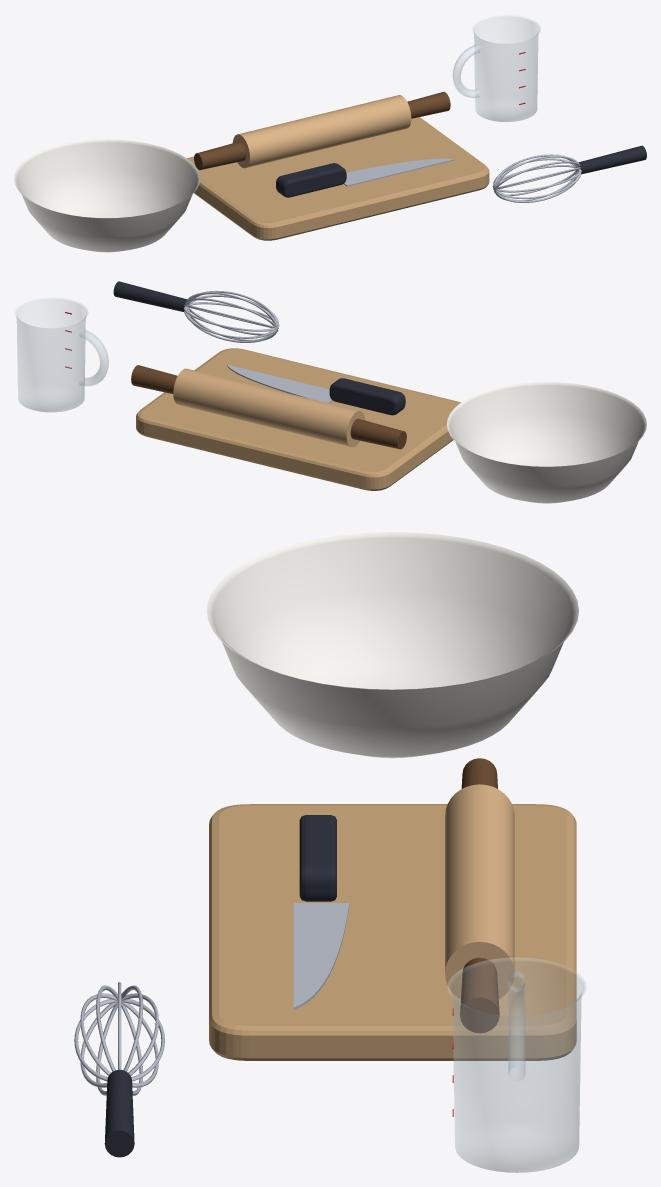
The model's file is sch-024.glb.
3 views of the same model, one above another, from view 1: azimuth 30°, elevation 25°; view 2: azimuth 150°, elevation 25°; view 3: azimuth 270°, elevation 25° (orthographic). The views are drawn at different scales.
Visible parts, largest first — view 1: oak, ceramic_white, lab_glass, beech, steel, plastic_dark, walnut; view 2: ceramic_white, oak, lab_glass, beech, steel, plastic_dark, walnut; view 3: oak, ceramic_white, lab_glass, beech, steel, plastic_dark, walnut.
Boxes of the visible parts, box(x1,y1,x2,y2) form: oak: box(187, 117, 489, 240); ceramic_white: box(14, 139, 200, 252); lab_glass: box(453, 15, 540, 121); beech: box(232, 95, 411, 168); steel: box(344, 154, 581, 202); plastic_dark: box(276, 145, 646, 197); walnut: box(194, 92, 450, 170); ceramic_white: box(447, 382, 646, 503); oak: box(136, 348, 460, 490); lab_glass: box(14, 297, 108, 411); beech: box(173, 368, 365, 447); steel: box(183, 290, 332, 403); plastic_dark: box(113, 281, 405, 415); walnut: box(131, 365, 406, 449); oak: box(209, 804, 576, 1060); ceramic_white: box(206, 532, 578, 758); lab_glass: box(448, 957, 586, 1172); beech: box(445, 784, 514, 999); steel: box(74, 903, 349, 1095); plastic_dark: box(104, 815, 336, 1157); walnut: box(460, 758, 499, 1033).
Size of the model in its own units: 1.02 by 0.144 by 0.4125.
